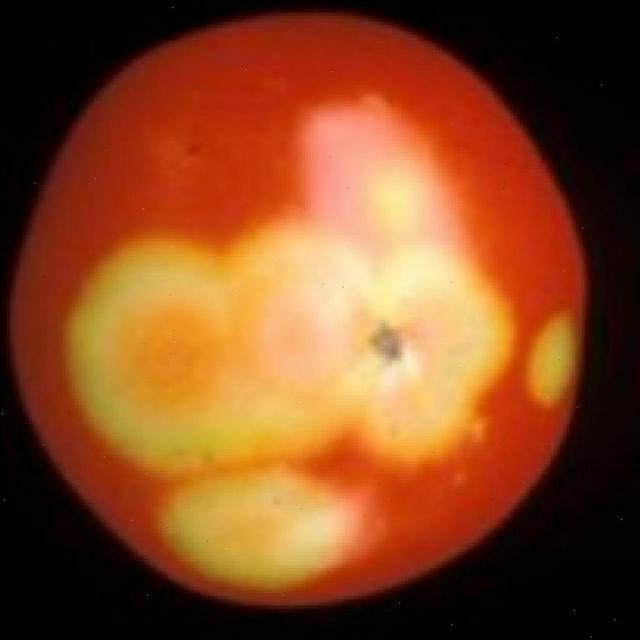Spotted wilt Virus Fruit: (63, 1, 119, 70)
